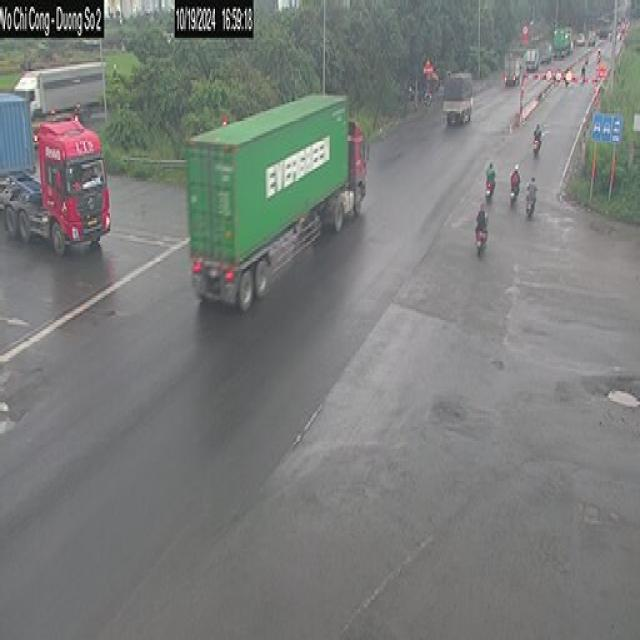container-truck: (187, 90, 373, 316), (1, 92, 113, 258)
truck: (442, 64, 476, 129)
